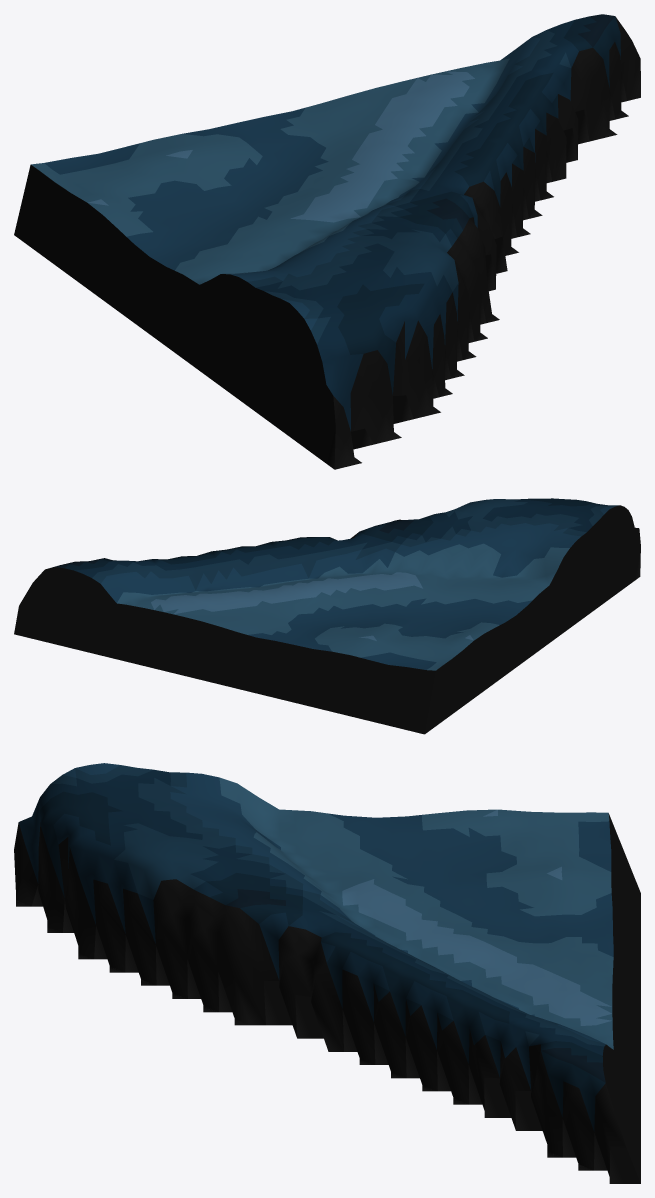
File: gryphon_89.glb
3 renders of one model, top to bottom at view 1: azimuth 30°, elevation 25°; view 2: azimuth 150°, elevation 25°; view 3: azimuth 270°, elevation 25°, orthographic. The views are drawn at different scales.
Parts seen in each view (by area): view 1: gryphon_89; view 2: gryphon_89; view 3: gryphon_89.
Boxes of the visible parts, x1=… form: gryphon_89: x1=14, y1=14, x2=640, y2=469; gryphon_89: x1=14, y1=498, x2=640, y2=734; gryphon_89: x1=14, y1=763, x2=640, y2=1183.
Size of the model in its own units: 22 by 4.6 by 20.06.
